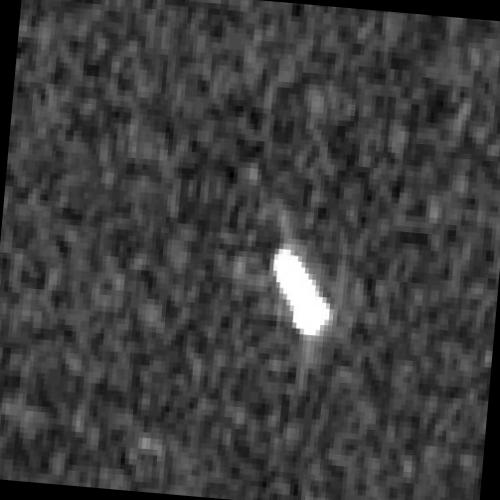ship: (270, 240, 333, 339)
